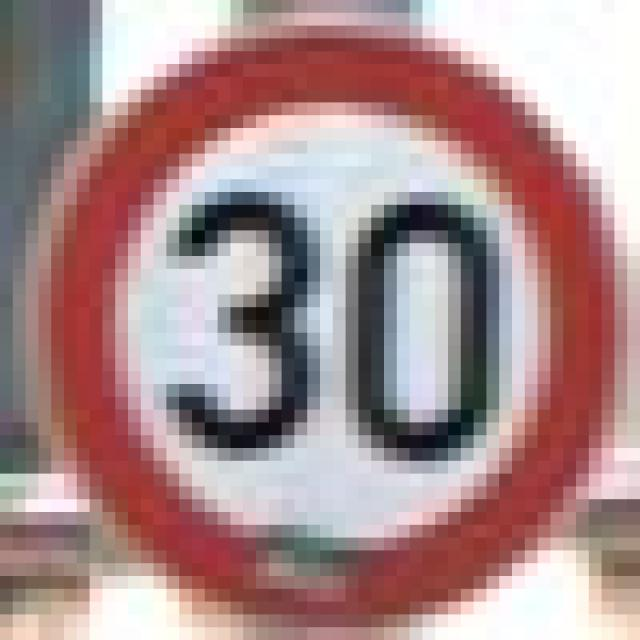SPEED_LIMIT_30: (12, 0, 602, 627)
